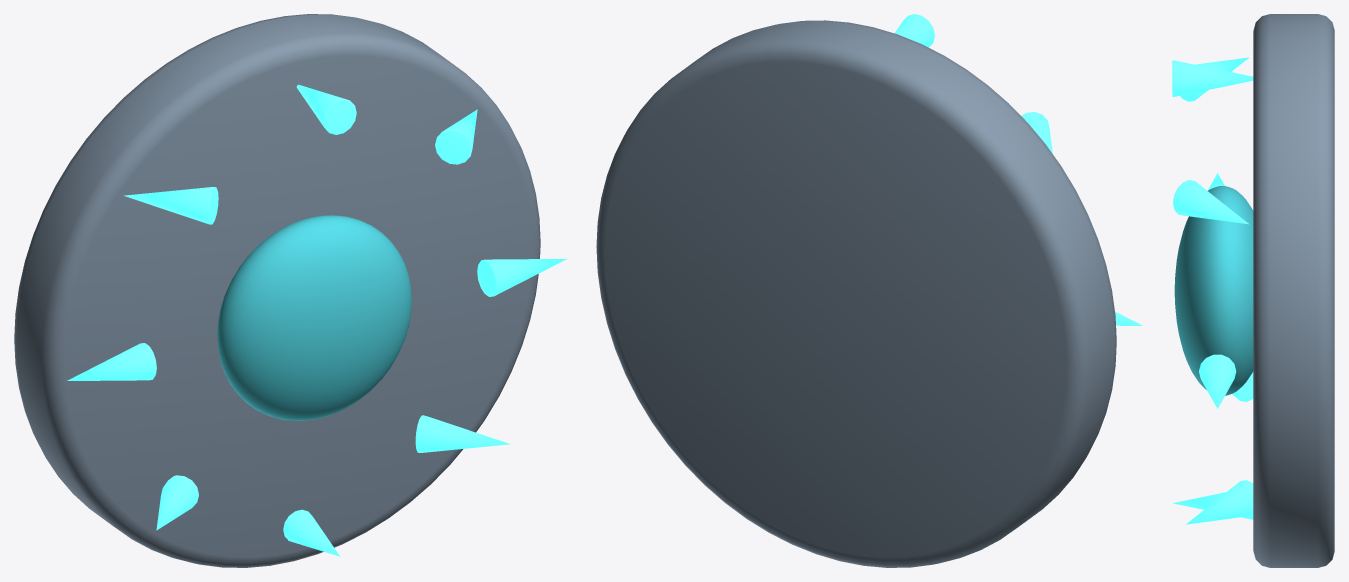
The model's file is shield_v7.glb.
3 renders of one model, left to right at view 1: azimuth 30°, elevation 25°; view 2: azimuth 150°, elevation 25°; view 3: azimuth 270°, elevation 25°, orthographic. The views are drawn at different scales.
Parts seen in each view (by area): view 1: SPIKED_SHIELD_PRIMARY, SPIKED_BOSS_ACCENT, RIM_SPIKE_EMISSIVE.007, RIM_SPIKE_EMISSIVE.003, RIM_SPIKE_EMISSIVE, RIM_SPIKE_EMISSIVE.004, RIM_SPIKE_EMISSIVE.002, RIM_SPIKE_EMISSIVE.001, RIM_SPIKE_EMISSIVE.005, RIM_SPIKE_EMISSIVE.006; view 2: SPIKED_SHIELD_PRIMARY, RIM_SPIKE_EMISSIVE.002; view 3: SPIKED_SHIELD_PRIMARY, SPIKED_BOSS_ACCENT, RIM_SPIKE_EMISSIVE.002, RIM_SPIKE_EMISSIVE.001, RIM_SPIKE_EMISSIVE.007, RIM_SPIKE_EMISSIVE, RIM_SPIKE_EMISSIVE.003, RIM_SPIKE_EMISSIVE.006, RIM_SPIKE_EMISSIVE.005.
Boxes of the visible parts, <box> form: SPIKED_SHIELD_PRIMARY: <box>14,14,540,567</box>; SPIKED_BOSS_ACCENT: <box>217,215,411,420</box>; RIM_SPIKE_EMISSIVE.007: <box>415,415,510,452</box>; RIM_SPIKE_EMISSIVE.003: <box>124,187,218,224</box>; RIM_SPIKE_EMISSIVE: <box>477,258,567,296</box>; RIM_SPIKE_EMISSIVE.004: <box>67,343,156,380</box>; RIM_SPIKE_EMISSIVE.002: <box>296,84,356,134</box>; RIM_SPIKE_EMISSIVE.001: <box>435,109,477,164</box>; RIM_SPIKE_EMISSIVE.005: <box>156,475,198,530</box>; RIM_SPIKE_EMISSIVE.006: <box>283,509,340,556</box>; SPIKED_SHIELD_PRIMARY: <box>596,20,1116,567</box>; RIM_SPIKE_EMISSIVE.002: <box>894,14,934,47</box>; SPIKED_SHIELD_PRIMARY: <box>1253,14,1334,567</box>; SPIKED_BOSS_ACCENT: <box>1174,186,1253,395</box>; RIM_SPIKE_EMISSIVE.002: <box>1172,60,1253,96</box>; RIM_SPIKE_EMISSIVE.001: <box>1173,180,1248,224</box>; RIM_SPIKE_EMISSIVE.007: <box>1186,480,1253,524</box>; RIM_SPIKE_EMISSIVE: <box>1199,354,1236,408</box>; RIM_SPIKE_EMISSIVE.003: <box>1180,57,1249,101</box>; RIM_SPIKE_EMISSIVE.006: <box>1173,492,1253,519</box>; RIM_SPIKE_EMISSIVE.005: <box>1232,371,1253,401</box>.
Size of the model in its own units: 2.34 by 2.32 by 0.68.
